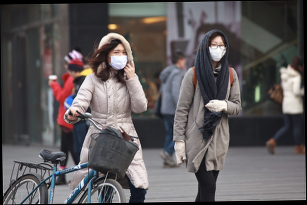with_mask: (109, 48, 129, 71), (209, 40, 228, 62)
